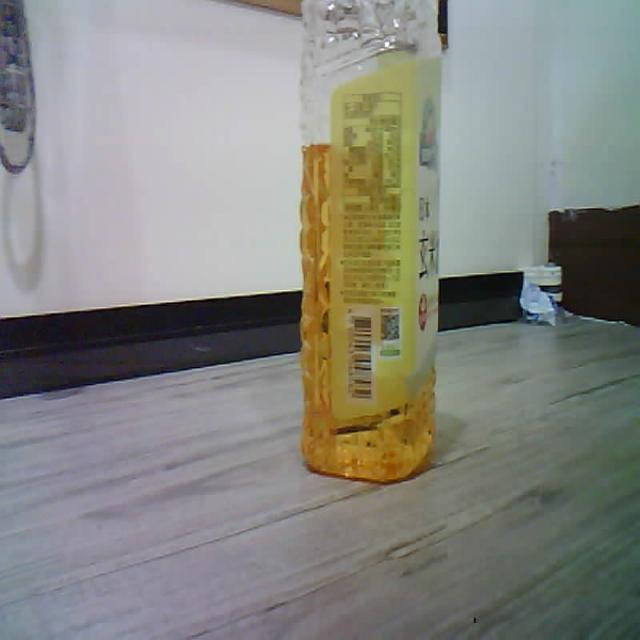bottle: (300, 0, 441, 481)
